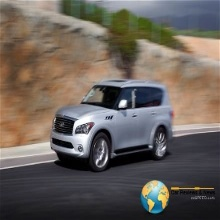no damage: (50, 80, 171, 172)
